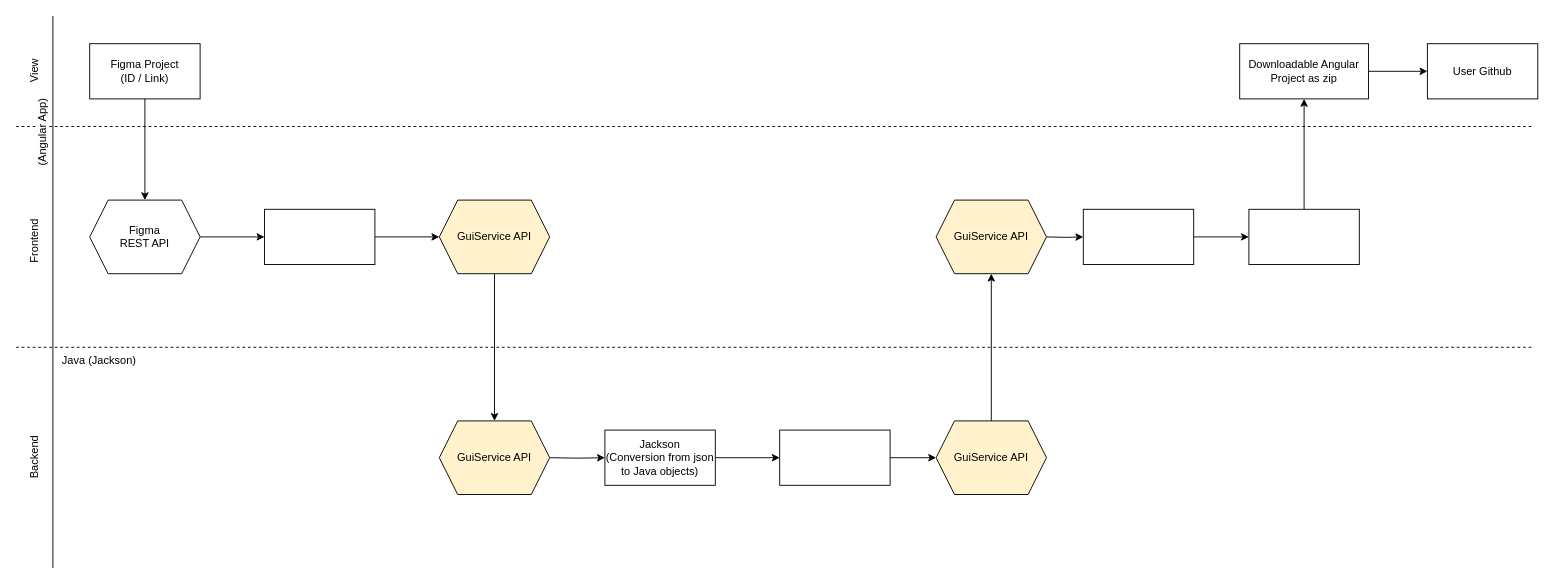
The diagram is 1554 pixels wide and 585 high, and some of its shapes have lost their labels. Each missing label, with the centre of its shape:
"Components" belongs at pixel 834 457.
"Conversion from java objects to ts objects" belongs at pixel 1138 236.
"Generate Angular Components" belongs at pixel 1303 236.
"Mock-Up structure (json format)" belongs at pixel 319 236.
